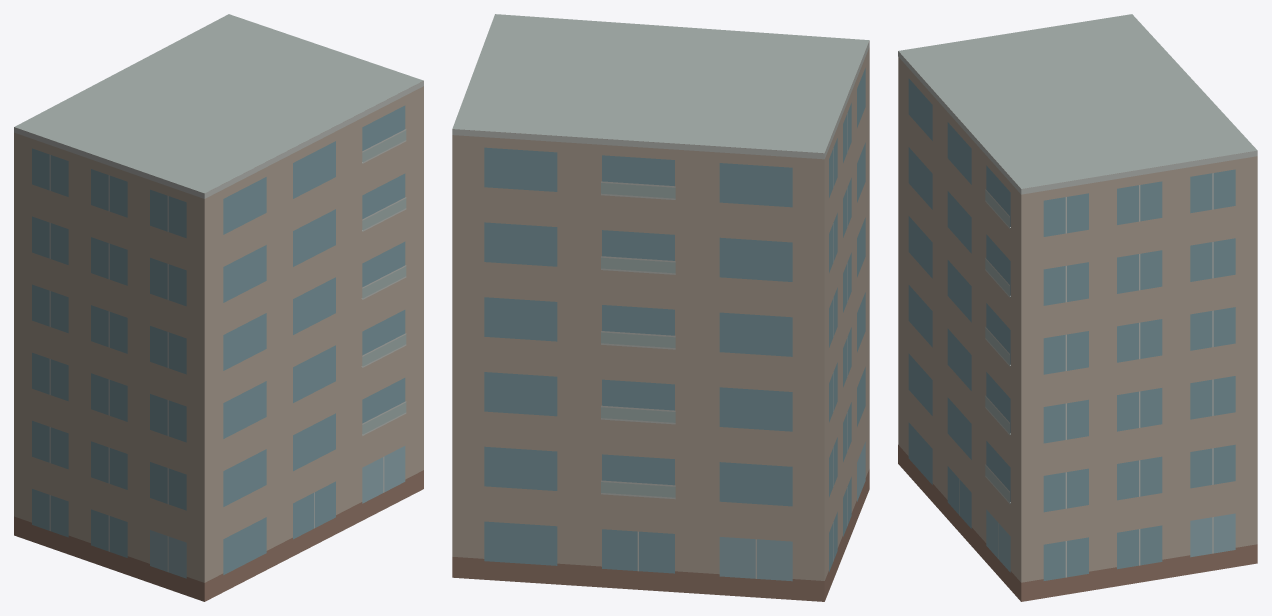
Rendered from survey-upis-32748092.glb.
3 renders of one model, left to right at view 1: azimuth 30°, elevation 25°; view 2: azimuth 150°, elevation 25°; view 3: azimuth 270°, elevation 25°, orthographic. The views are drawn at different scales.
Parts seen in each view (by area): view 1: survey-upis-32748092.tmp; view 2: survey-upis-32748092.tmp; view 3: survey-upis-32748092.tmp.
Part boxes in pixels (x1,y1,x2,y2): survey-upis-32748092.tmp: [14, 14, 423, 601]; survey-upis-32748092.tmp: [452, 14, 869, 601]; survey-upis-32748092.tmp: [898, 14, 1257, 601].
Bounding box in the file's own units: 16.38 × 18 × 14.22.
